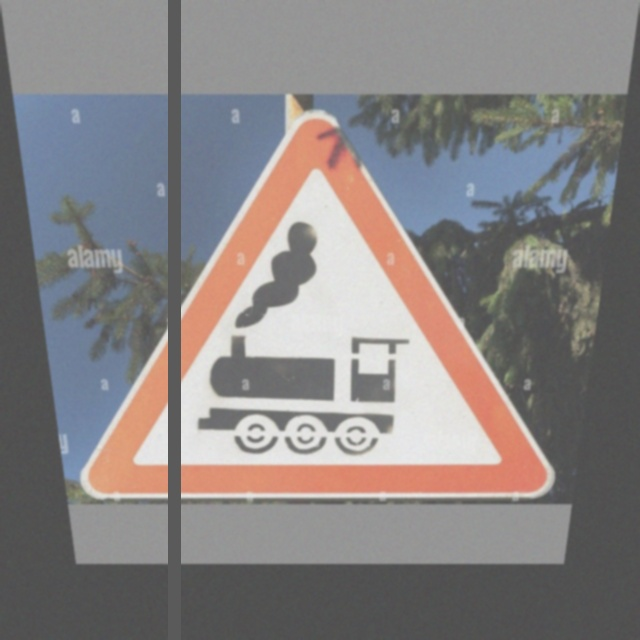Unguarded_Level_Crossing: (85, 139, 535, 491)
